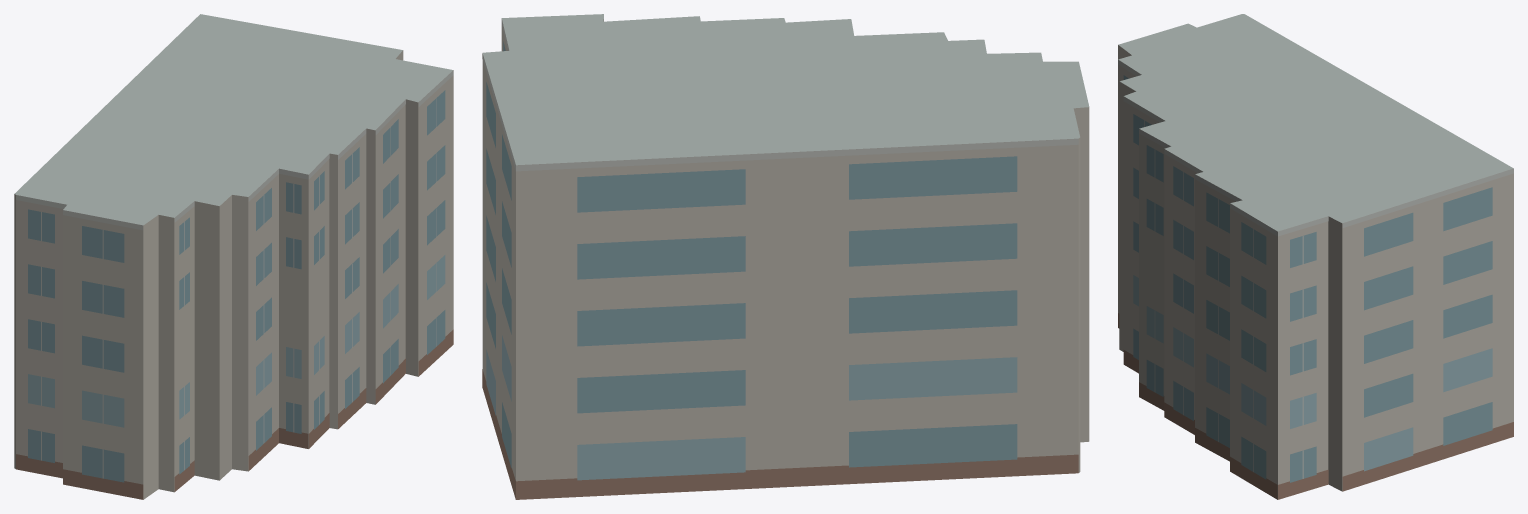
Rendered from survey-upis-32575416.glb.
3 renders of one model, left to right at view 1: azimuth 30°, elevation 25°; view 2: azimuth 150°, elevation 25°; view 3: azimuth 270°, elevation 25°, orthographic. The views are drawn at different scales.
Visible parts, largest first — view 1: survey-upis-32575416.tmp; view 2: survey-upis-32575416.tmp; view 3: survey-upis-32575416.tmp.
Boxes of the visible parts, box(x1,y1,x2,y2) form: survey-upis-32575416.tmp: box(14, 14, 453, 499); survey-upis-32575416.tmp: box(482, 14, 1089, 499); survey-upis-32575416.tmp: box(1118, 14, 1513, 499).
Bounding box in the file's own units: 22.96 × 13.2 × 17.65.
